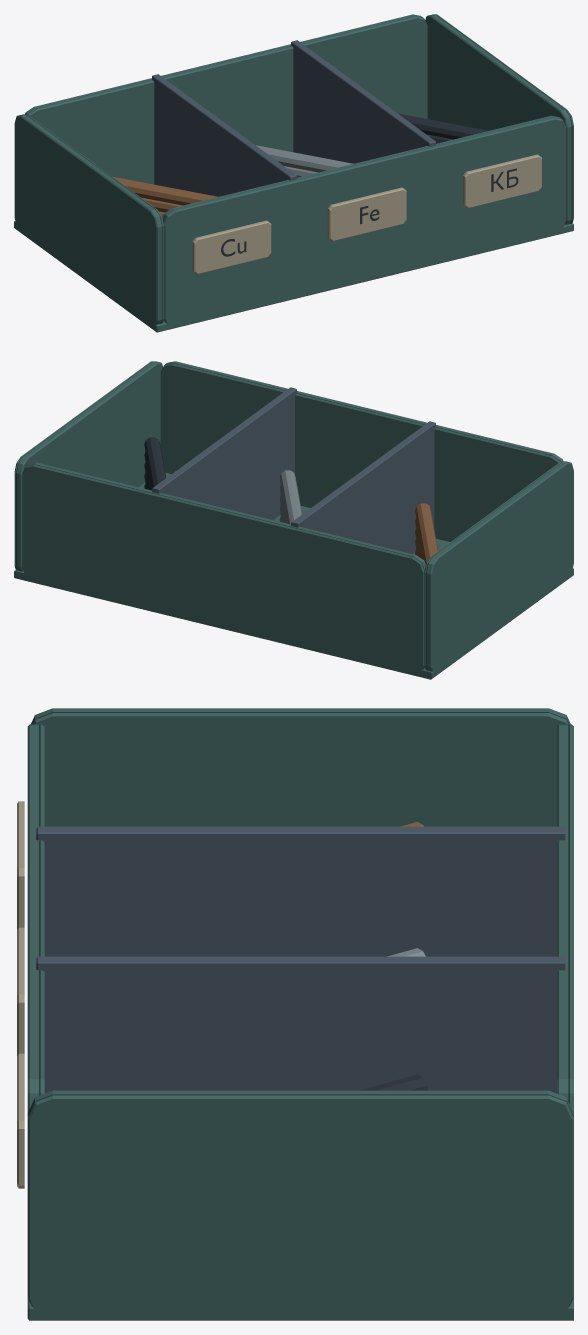
Rendered from R-14_salvage_bin.glb.
The picture shows the model from 3 angles, top to bottom: view 1: azimuth 30°, elevation 25°; view 2: azimuth 150°, elevation 25°; view 3: azimuth 270°, elevation 25°; orthographic projection. The views are drawn at different scales.
Visible parts, largest first — view 1: R-14_salvage_bin; view 2: R-14_salvage_bin; view 3: R-14_salvage_bin.
Part boxes in pixels (x1,y1,x2,y2): R-14_salvage_bin: (14,14,573,332); R-14_salvage_bin: (14,361,573,679); R-14_salvage_bin: (17,708,573,1320).
Size of the model in its own units: 1.08 by 0.3 by 0.656.
